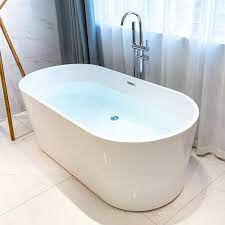bathub: (12, 55, 219, 217)
